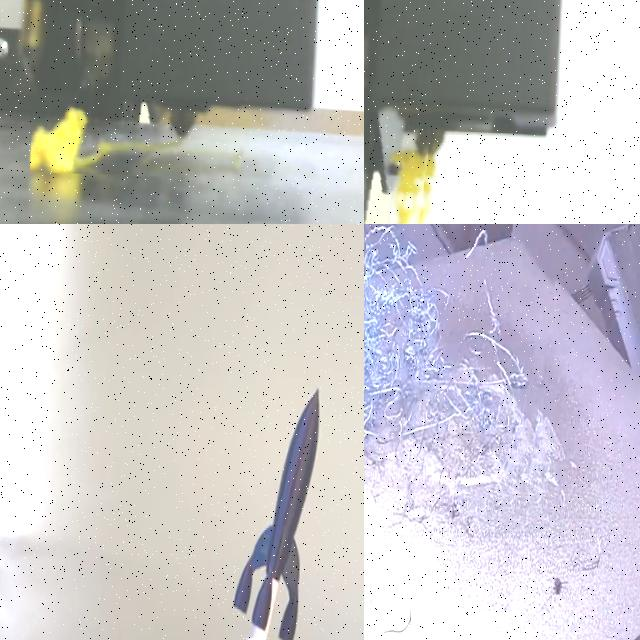spaghetti: (364, 227, 538, 504), (29, 106, 171, 173)
